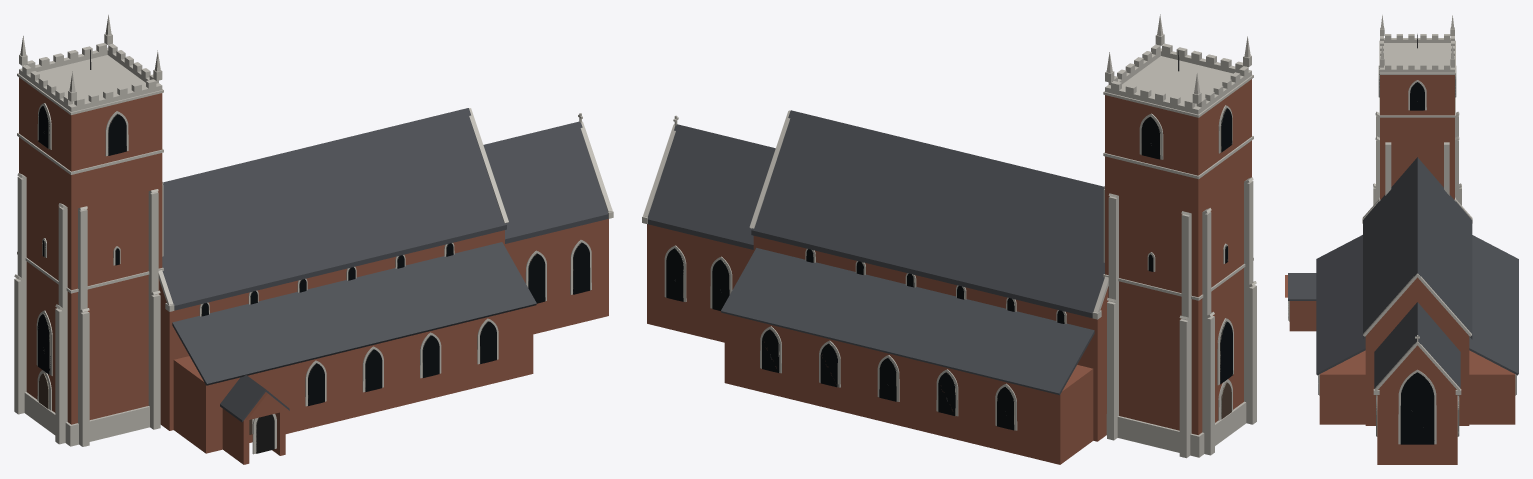
Rendered from context.church.town_brick_perp.glb.
3 views of the same model, side by side, from view 1: azimuth 30°, elevation 25°; view 2: azimuth 150°, elevation 25°; view 3: azimuth 270°, elevation 25° (orthographic). The views are drawn at different scales.
Visible parts, largest first — view 1: main__clad_455, main__stone_854, main__stone_cbb, main__glass_dark, main__stone_998, main__timber_111; view 2: main__clad_455, main__stone_854, main__stone_cbb, main__glass_dark, main__stone_998; view 3: main__clad_455, main__stone_854, main__stone_cbb, main__glass_dark.
Boxes of the visible parts, left/top/right/bottom form: main__clad_455: left=162, top=108, right=608, bottom=422; main__stone_854: left=19, top=77, right=608, bottom=464; main__stone_cbb: left=14, top=15, right=613, bottom=454; main__glass_dark: left=37, top=105, right=590, bottom=406; main__stone_998: left=37, top=105, right=590, bottom=453; main__timber_111: left=256, top=414, right=274, bottom=453; main__clad_455: left=647, top=110, right=1104, bottom=395; main__stone_854: left=647, top=79, right=1251, bottom=464; main__stone_cbb: left=642, top=14, right=1256, bottom=458; main__glass_dark: left=666, top=108, right=1232, bottom=430; main__stone_998: left=666, top=108, right=1233, bottom=430; main__clad_455: left=1288, top=157, right=1518, bottom=388; main__stone_854: left=1285, top=75, right=1515, bottom=464; main__stone_cbb: left=1289, top=15, right=1515, bottom=444; main__glass_dark: left=1318, top=66, right=1516, bottom=444.
Size of the model in its own units: 39.07 by 25.47 by 20.3.
